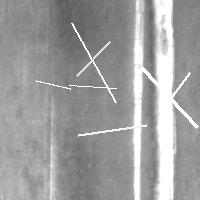scratches: (142, 1, 178, 199), (66, 18, 120, 107), (137, 63, 200, 132), (133, 1, 144, 199), (71, 37, 114, 81), (73, 120, 151, 140), (46, 91, 59, 200), (164, 68, 194, 105), (31, 75, 75, 93), (64, 80, 121, 93)
